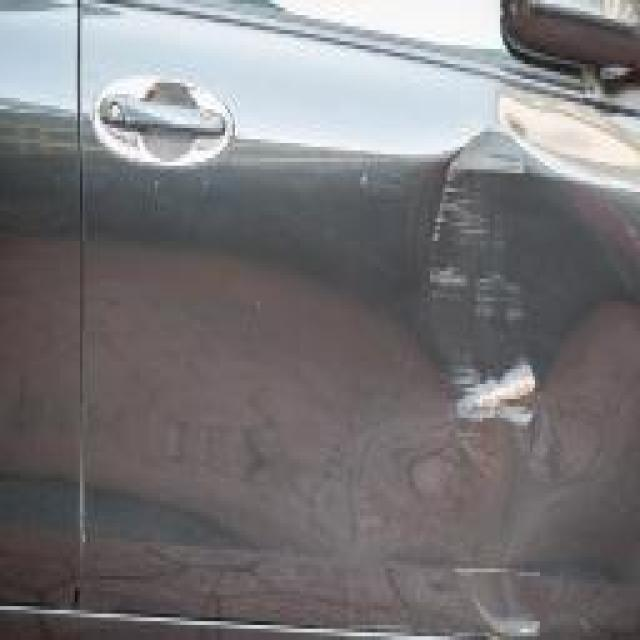Door: (360, 98, 602, 640)
